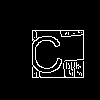C: (25, 25, 65, 74)
